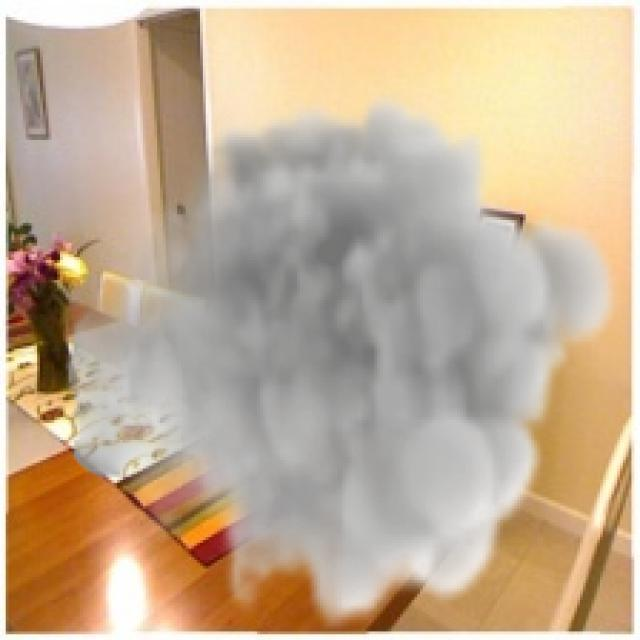Smoke: (63, 91, 623, 632)
